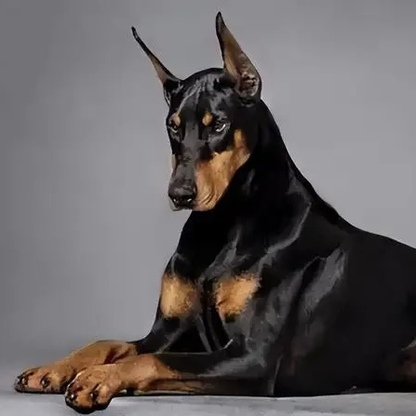doberman: (35, 11, 416, 405)
